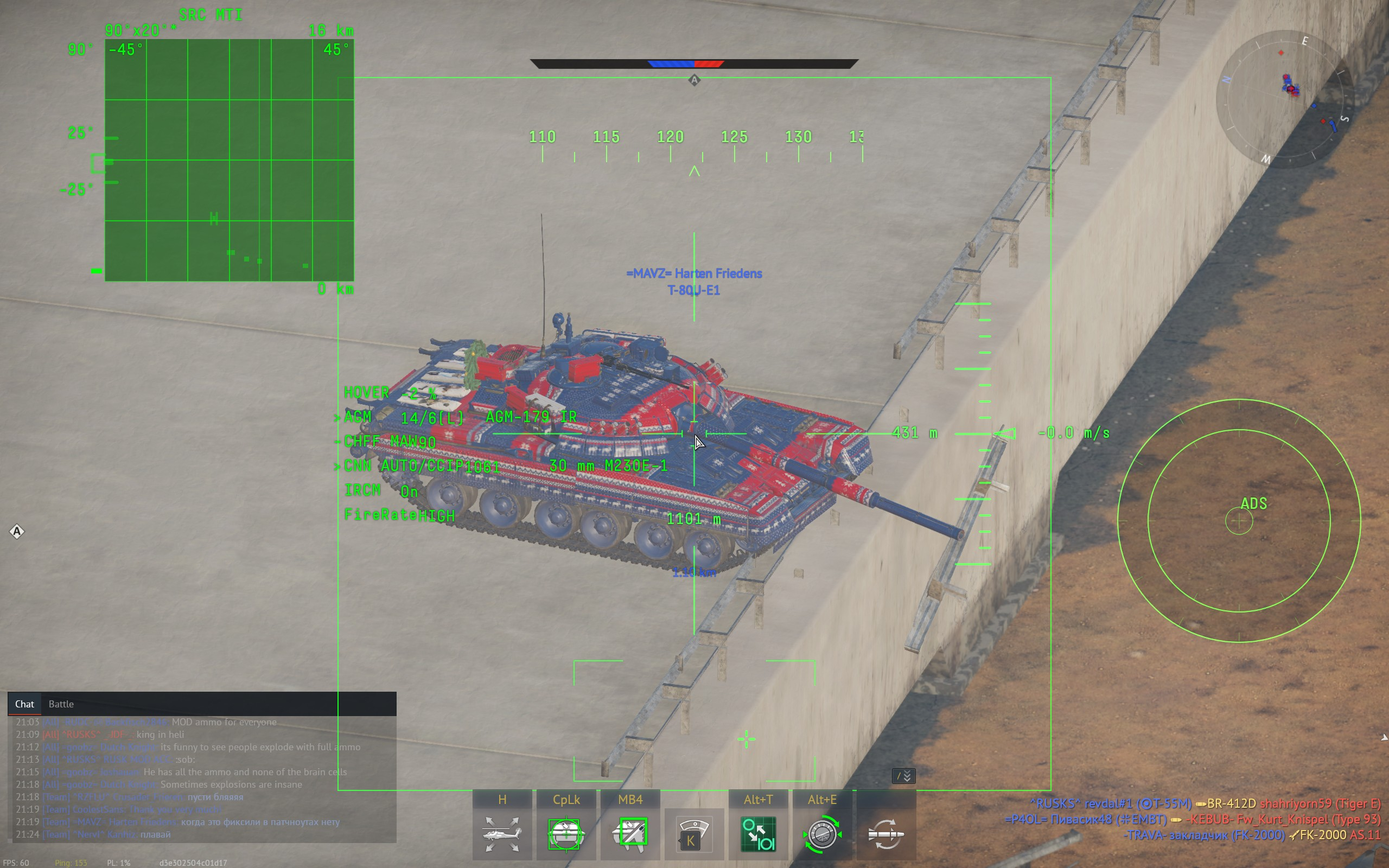t-80u: (344, 312, 967, 577)
